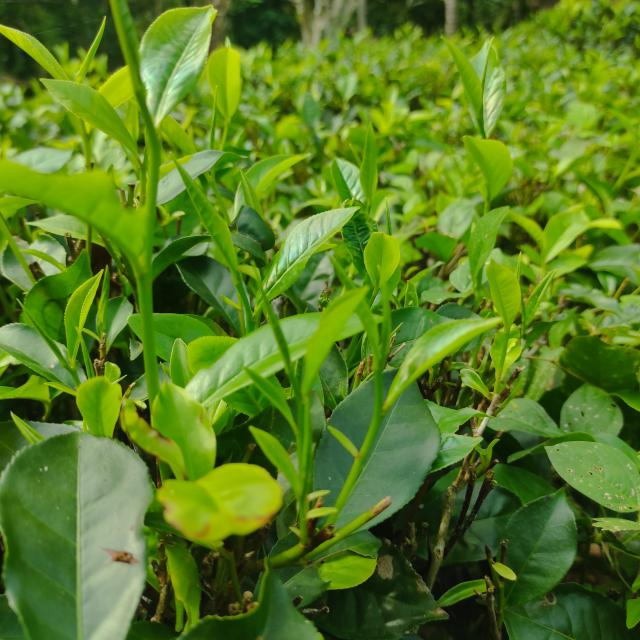unopened_leaf: (242, 258, 306, 403), (8, 292, 86, 394), (72, 5, 115, 80), (374, 258, 398, 377), (64, 322, 102, 385), (509, 247, 533, 324), (7, 405, 44, 453), (207, 78, 228, 150)
